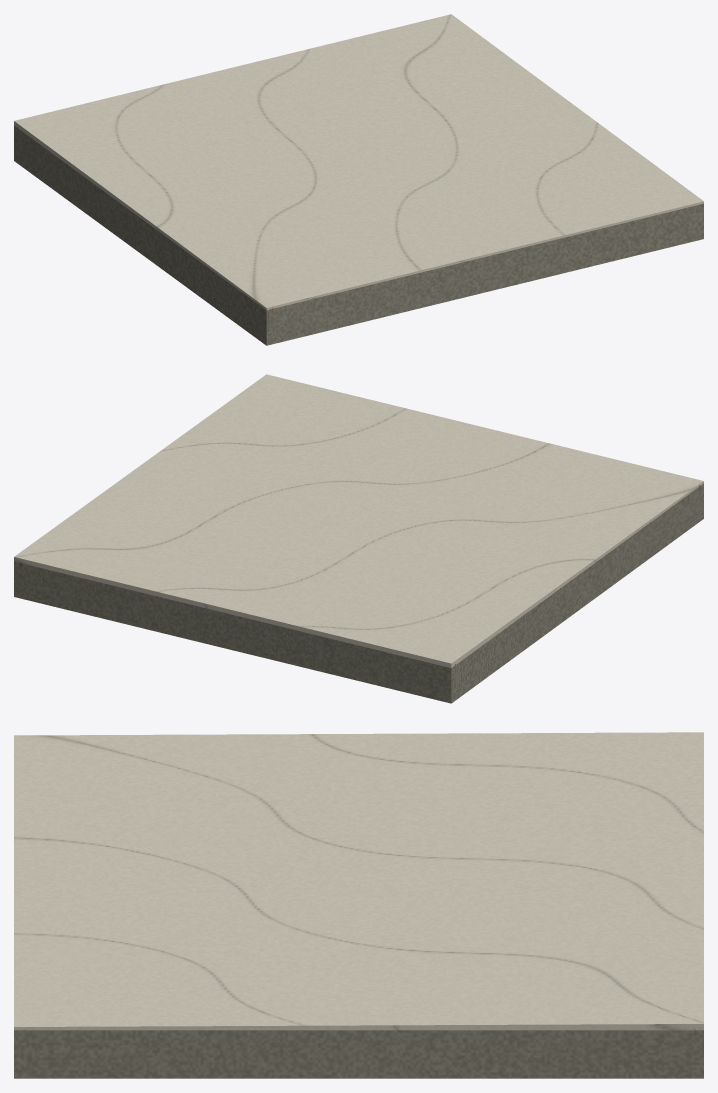
3 renders of one model, top to bottom at view 1: azimuth 30°, elevation 25°; view 2: azimuth 150°, elevation 25°; view 3: azimuth 270°, elevation 25°, orthographic. The views are drawn at different scales.
Parts seen in each view (by area): view 1: LOD1__Shallow fall marble roof, LOD1__Roof bearing core; view 2: LOD1__Shallow fall marble roof, LOD1__Roof bearing core; view 3: LOD1__Shallow fall marble roof, LOD1__Roof bearing core.
Part boxes in pixels (x1,y1,x2,y2): LOD1__Shallow fall marble roof: [14, 14, 703, 310]; LOD1__Roof bearing core: [14, 126, 703, 345]; LOD1__Shallow fall marble roof: [14, 374, 703, 667]; LOD1__Roof bearing core: [14, 483, 703, 703]; LOD1__Shallow fall marble roof: [14, 732, 703, 1030]; LOD1__Roof bearing core: [14, 1030, 703, 1078].
Bounding box in the file's own units: 4 × 0.35 × 4.
Materials: 3 (3 with a texture image).
